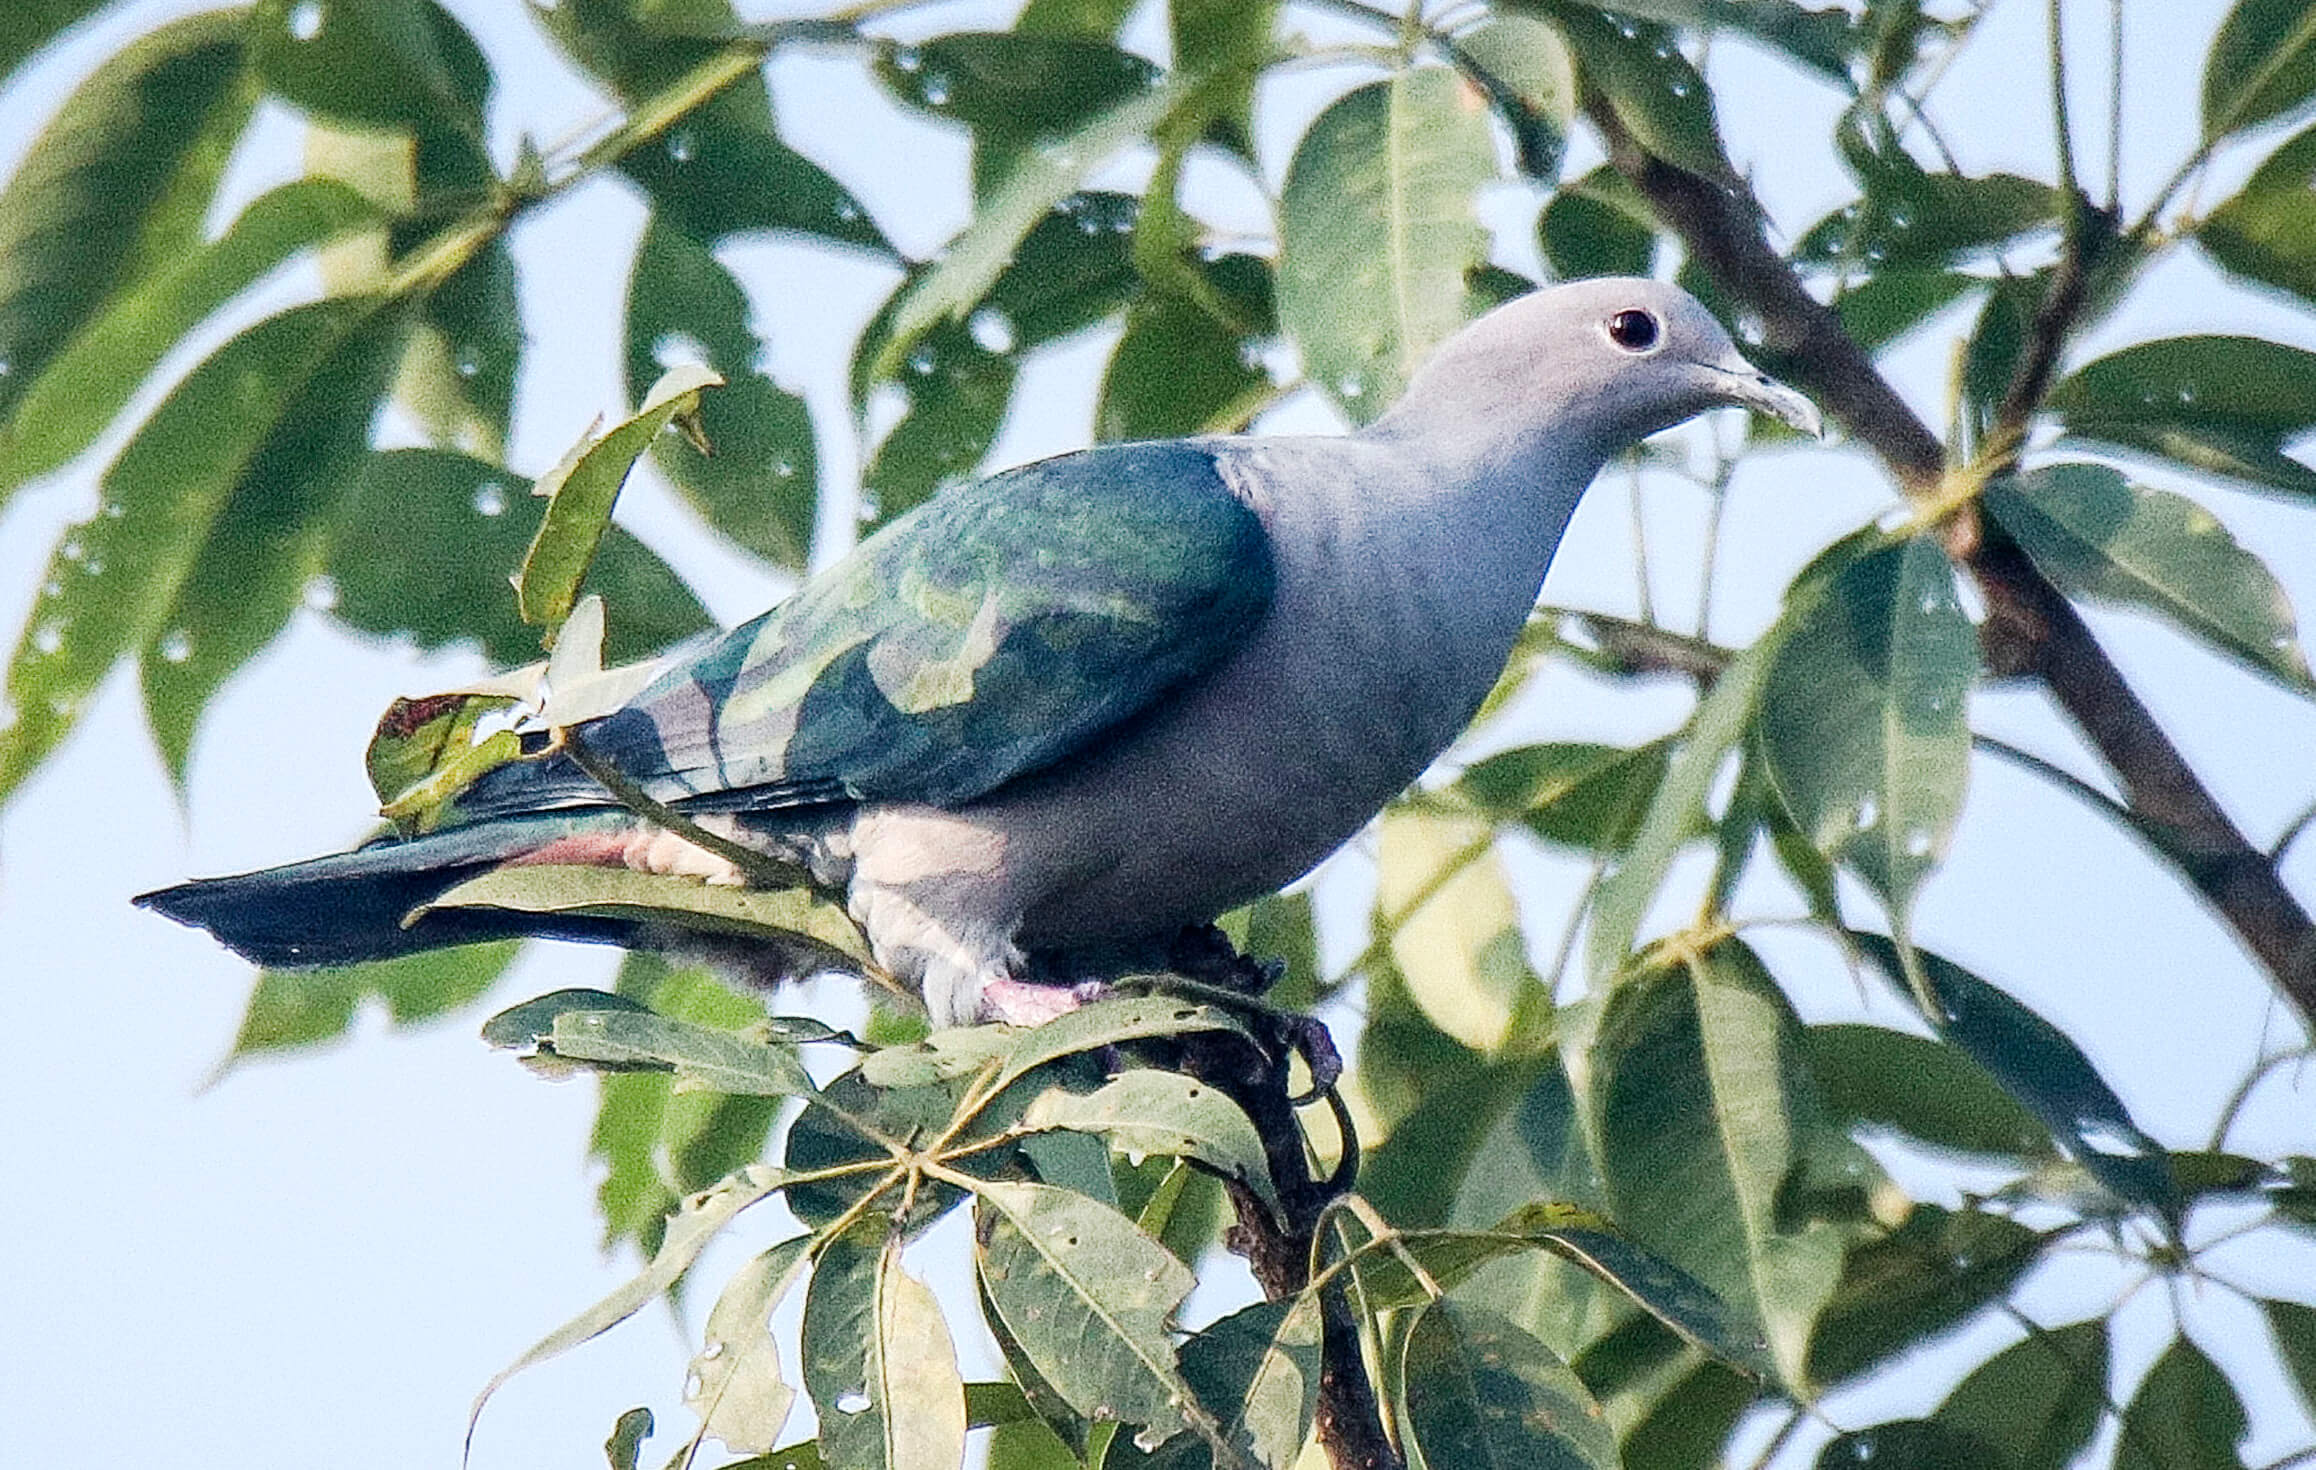bird: (115, 226, 1855, 1186)
